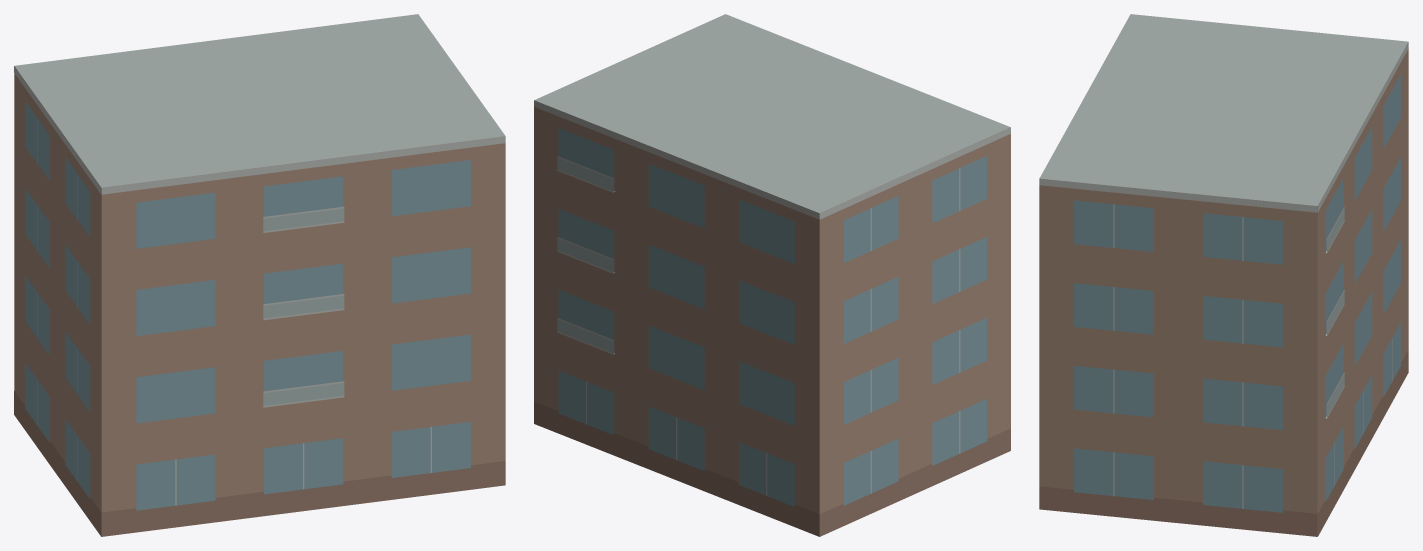
The model's file is residential-f36d5b30-6f9b-40d5-8227-44d271837757.glb.
3 views of the same model, side by side, from view 1: azimuth 30°, elevation 25°; view 2: azimuth 150°, elevation 25°; view 3: azimuth 270°, elevation 25° (orthographic). The views are drawn at different scales.
Visible parts, largest first — view 1: residential-f36d5b30-6f9b-40d5-8227-44d271837757.tmp; view 2: residential-f36d5b30-6f9b-40d5-8227-44d271837757.tmp; view 3: residential-f36d5b30-6f9b-40d5-8227-44d271837757.tmp.
Part boxes in pixels (left/top/right/bottom): residential-f36d5b30-6f9b-40d5-8227-44d271837757.tmp: left=14, top=14, right=505, bottom=536; residential-f36d5b30-6f9b-40d5-8227-44d271837757.tmp: left=534, top=14, right=1010, bottom=536; residential-f36d5b30-6f9b-40d5-8227-44d271837757.tmp: left=1039, top=14, right=1408, bottom=536.
Size of the model in its own units: 15.21 by 12.2 by 12.36.
